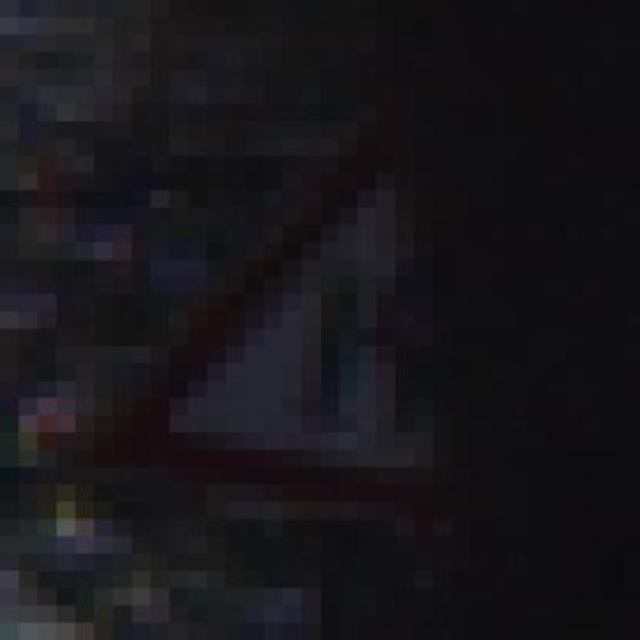-Road narrows on right: (112, 138, 546, 519)
